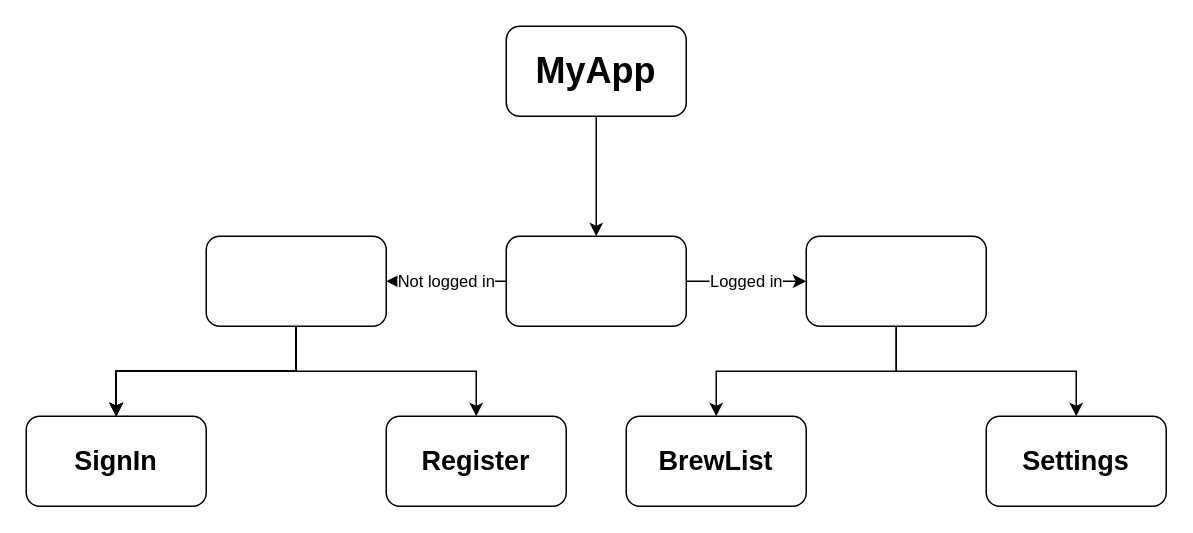
The diagram is 1193 pixels wide and 533 high, and some of its shapes have lost their labels. The shapes that lost their labels are listed below. From the top down, each one's centre as x and y in pixels, then its label:
[295,280]: Authenticate
[595,280]: Wrapper
[895,280]: Home
